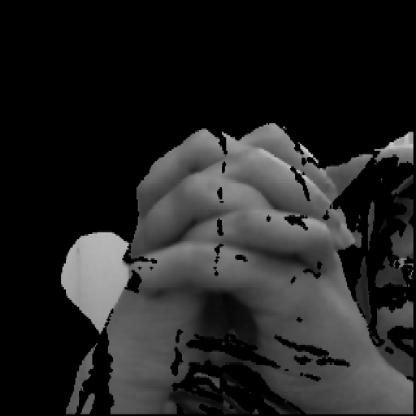prayer: (107, 116, 390, 385)
